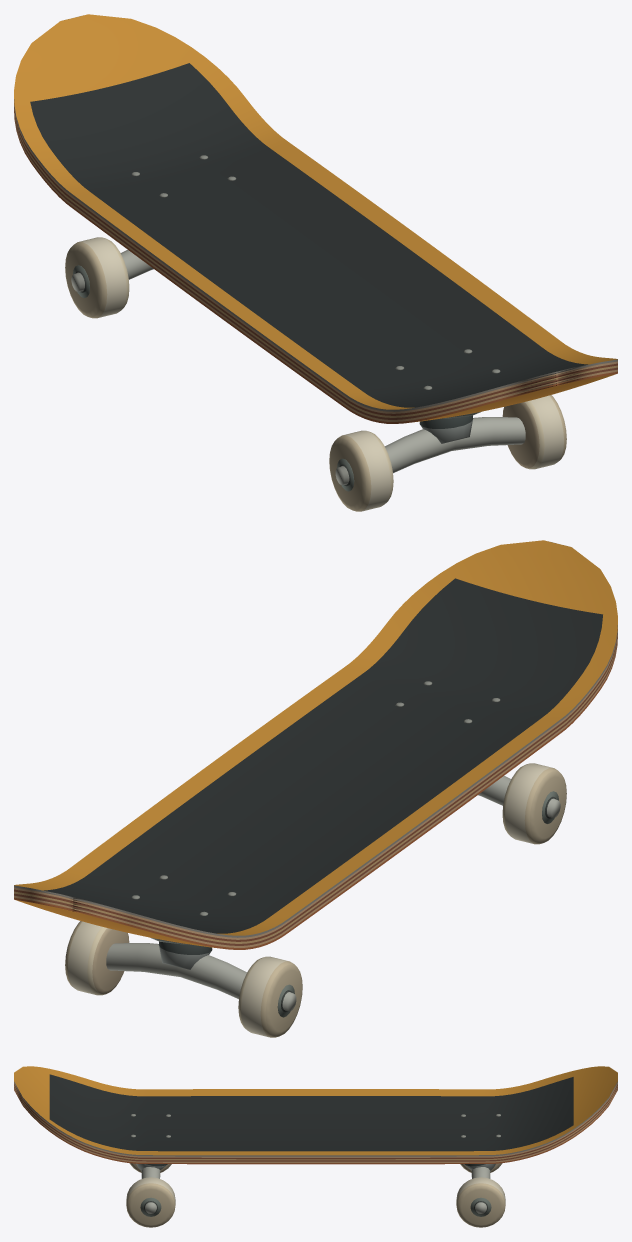
The model's file is kaj-deck.glb.
3 renders of one model, top to bottom at view 1: azimuth 30°, elevation 25°; view 2: azimuth 150°, elevation 25°; view 3: azimuth 270°, elevation 25°, orthographic. The views are drawn at different scales.
Parts seen in each view (by area): view 1: Kaj • Citrus Line 8.25; view 2: Kaj • Citrus Line 8.25; view 3: Kaj • Citrus Line 8.25.
Part boxes in pixels (x1,y1,x2,y2): Kaj • Citrus Line 8.25: (14, 14, 617, 511); Kaj • Citrus Line 8.25: (14, 540, 617, 1037); Kaj • Citrus Line 8.25: (14, 1066, 617, 1227).
Bounding box in the file's own units: 0.224 × 0.1909 × 0.86.
